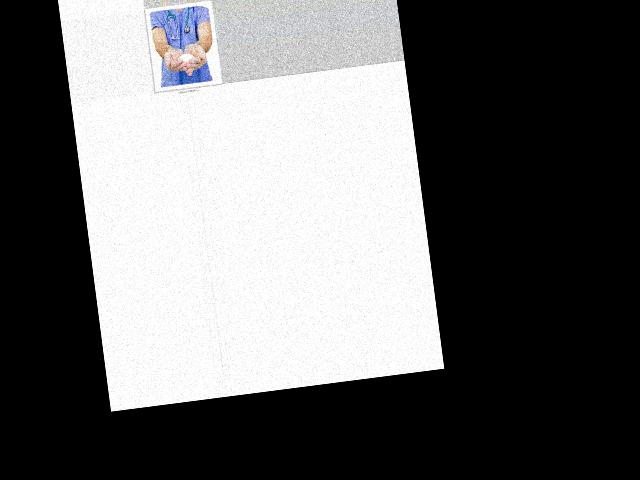egg: (177, 52, 193, 64)
